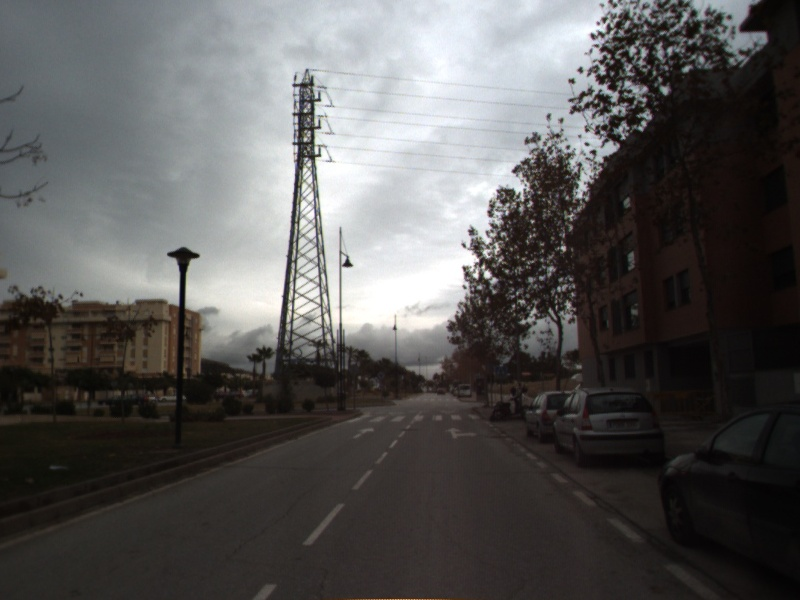STRAIGHT: (350, 425, 377, 441)
STRAIGHT_RIGHT: (442, 424, 480, 441)
